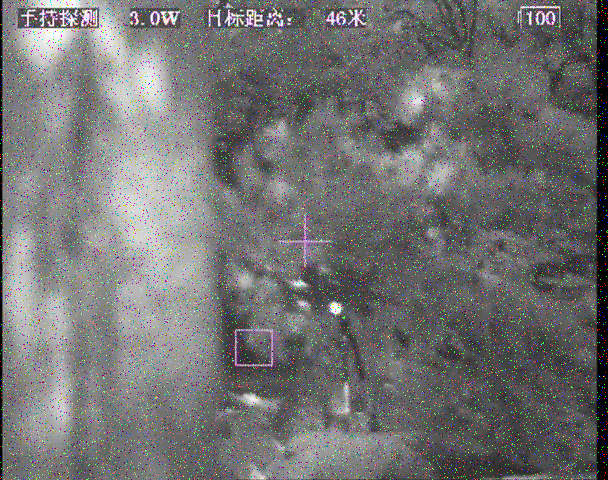my: (327, 301, 342, 316)
